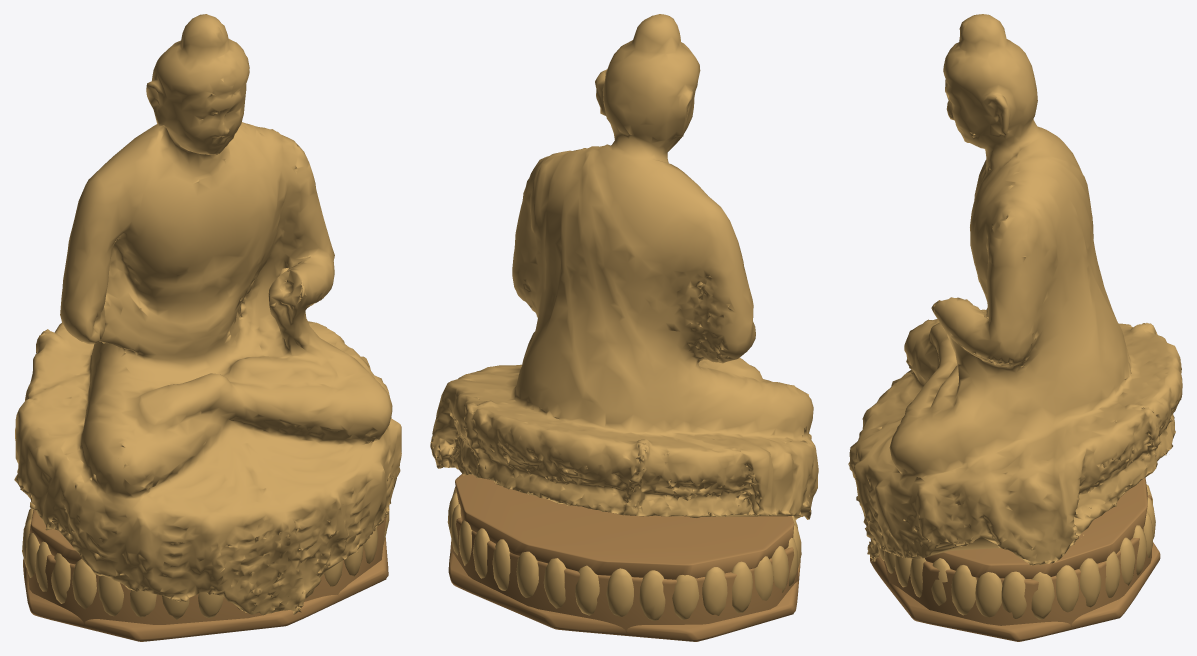
File: sculpture-distant.glb
3 views of the same model, side by side, from view 1: azimuth 30°, elevation 25°; view 2: azimuth 150°, elevation 25°; view 3: azimuth 270°, elevation 25° (orthographic). The views are drawn at different scales.
Visible parts, largest first — view 1: Tang Buddha | satin restored gilding | distant, Tang Buddha | burnished lotus pedestal | distant; view 2: Tang Buddha | satin restored gilding | distant, Tang Buddha | burnished lotus pedestal | distant; view 3: Tang Buddha | satin restored gilding | distant, Tang Buddha | burnished lotus pedestal | distant.
Boxes of the visible parts, bbox=[...] form: Tang Buddha | satin restored gilding | distant: bbox=[14, 14, 401, 619]; Tang Buddha | burnished lotus pedestal | distant: bbox=[23, 510, 388, 641]; Tang Buddha | satin restored gilding | distant: bbox=[430, 14, 818, 620]; Tang Buddha | burnished lotus pedestal | distant: bbox=[448, 474, 800, 641]; Tang Buddha | satin restored gilding | distant: bbox=[848, 14, 1182, 619]; Tang Buddha | burnished lotus pedestal | distant: bbox=[870, 477, 1160, 641].
Bounding box in the file's own units: 1.24 × 1.92 × 1.09.
